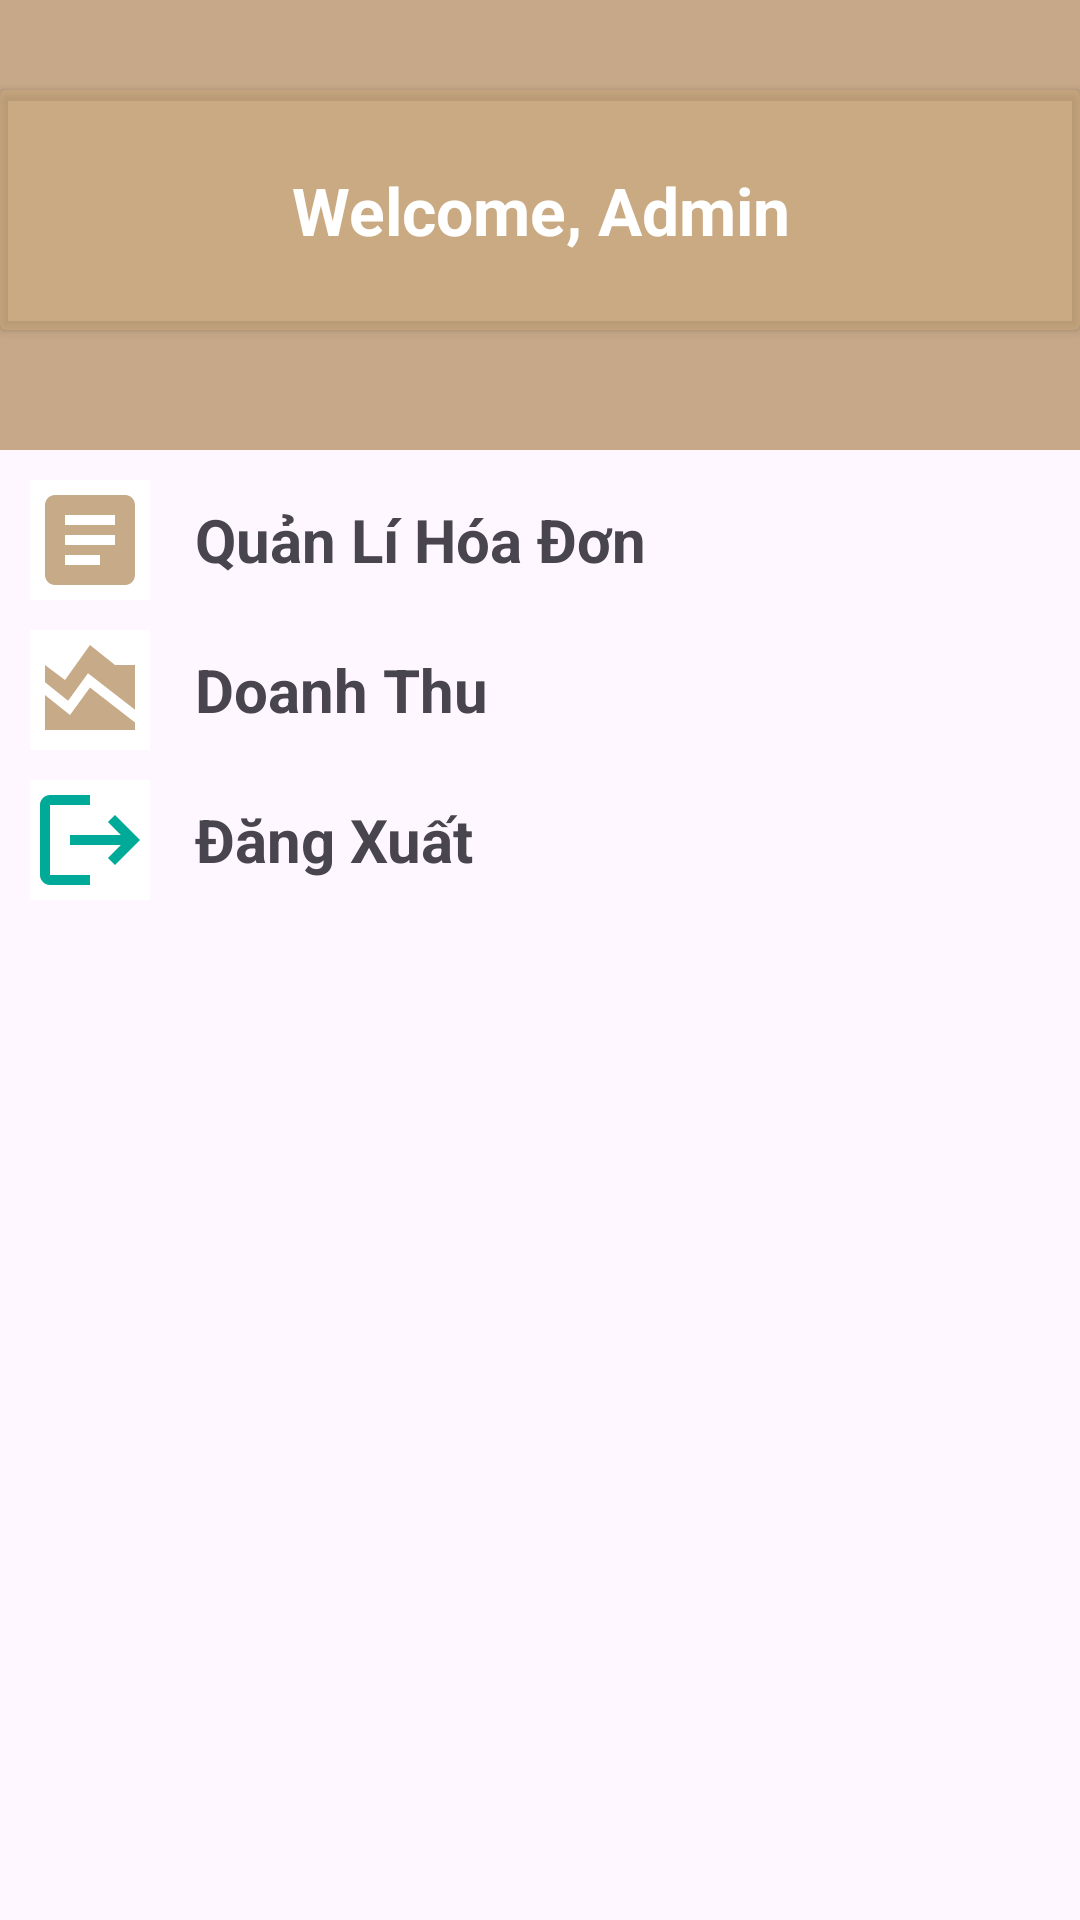

Screen size 1080px×1920px. Icon name, then its center in pixels as point (x, y):
area chart: point (90, 687)
article: point (90, 540)
